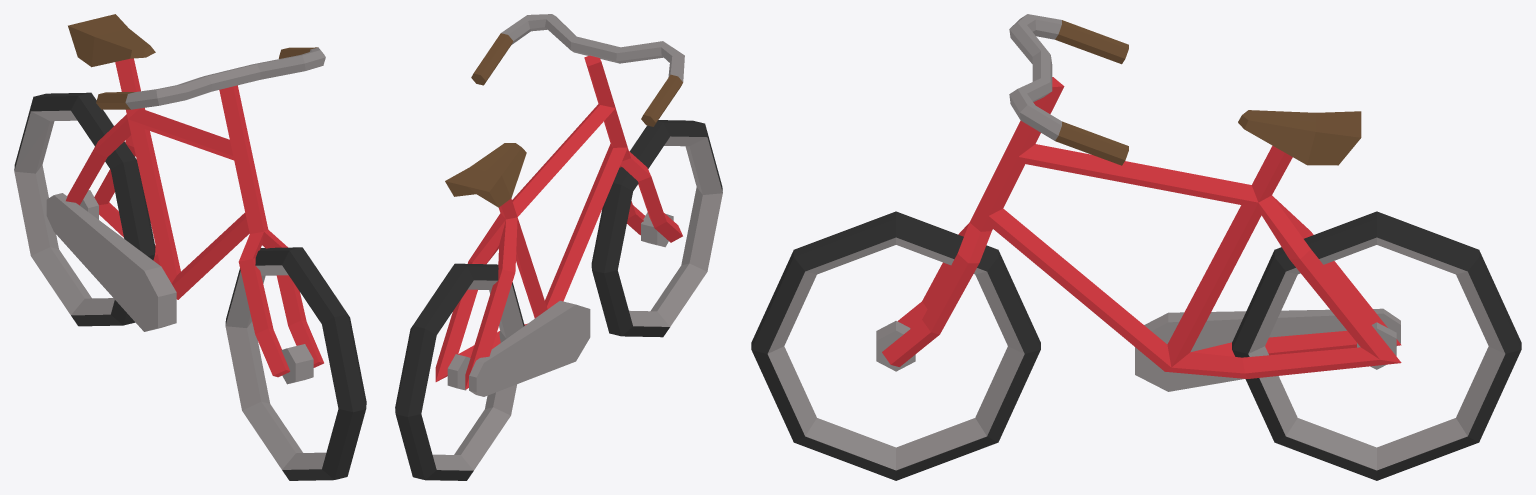
The model's file is bike-old.glb.
The picture shows the model from 3 angles, left to right: view 1: azimuth 30°, elevation 25°; view 2: azimuth 150°, elevation 25°; view 3: azimuth 270°, elevation 25°; orthographic projection. The views are drawn at different scales.
Parts seen in each view (by area): view 1: bike-old; view 2: bike-old; view 3: bike-old.
Part boxes in pixels (<box>): bike-old: <box>14,14,366,480</box>; bike-old: <box>395,14,722,480</box>; bike-old: <box>751,14,1521,480</box>.
Bounding box in the file's own units: 0.6035 × 1.08 × 1.78.
Materials: 1 (1 with a texture image).
